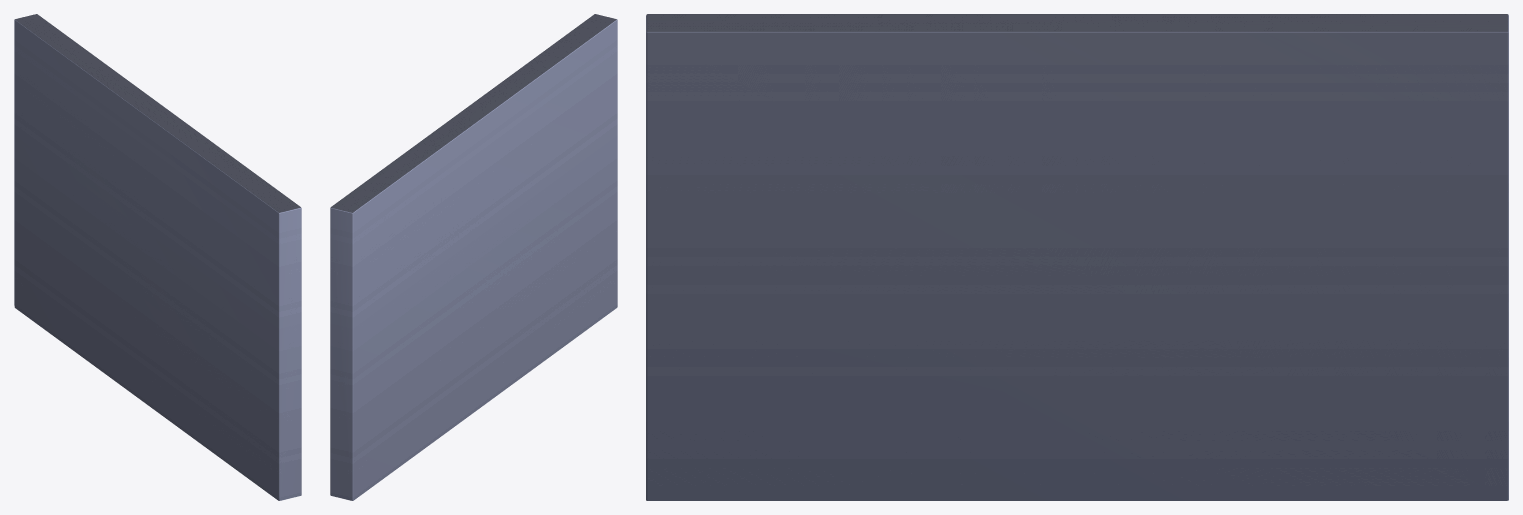
File: wall-low.glb
3 views of the same model, side by side, from view 1: azimuth 30°, elevation 25°; view 2: azimuth 150°, elevation 25°; view 3: azimuth 270°, elevation 25° (orthographic). The views are drawn at different scales.
Parts seen in each view (by area): view 1: wall-low; view 2: wall-low; view 3: wall-low.
Part boxes in pixels (x1,y1,x2,y2): wall-low: (14, 14, 301, 500); wall-low: (330, 14, 617, 500); wall-low: (646, 14, 1508, 500).
Size of the model in its own units: 0.1 by 1.2 by 2.
Materials: 1 (1 with a texture image).
